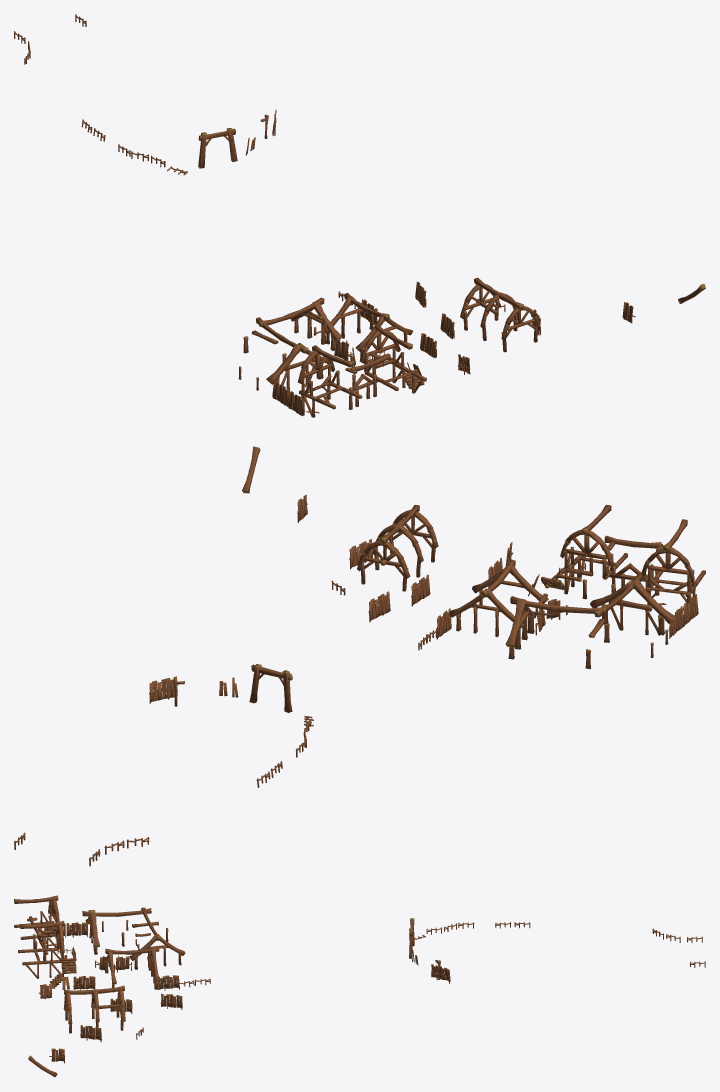
The model's file is WoodBlock1.FBX.
3 renders of one model, top to bottom at view 1: azimuth 30°, elevation 25°; view 2: azimuth 150°, elevation 25°; view 3: azimuth 270°, elevation 25°, orthographic. The views are drawn at different scales.
Parts seen in each view (by area): view 1: Object3862; view 2: Object3862; view 3: Object3862.
Part boxes in pixels (bbox=[...]): Object3862: bbox=[14, 14, 705, 417]; Object3862: bbox=[14, 446, 705, 866]; Object3862: bbox=[14, 895, 705, 1077].
Bounding box in the file's own units: 214 × 44.28 × 391.
